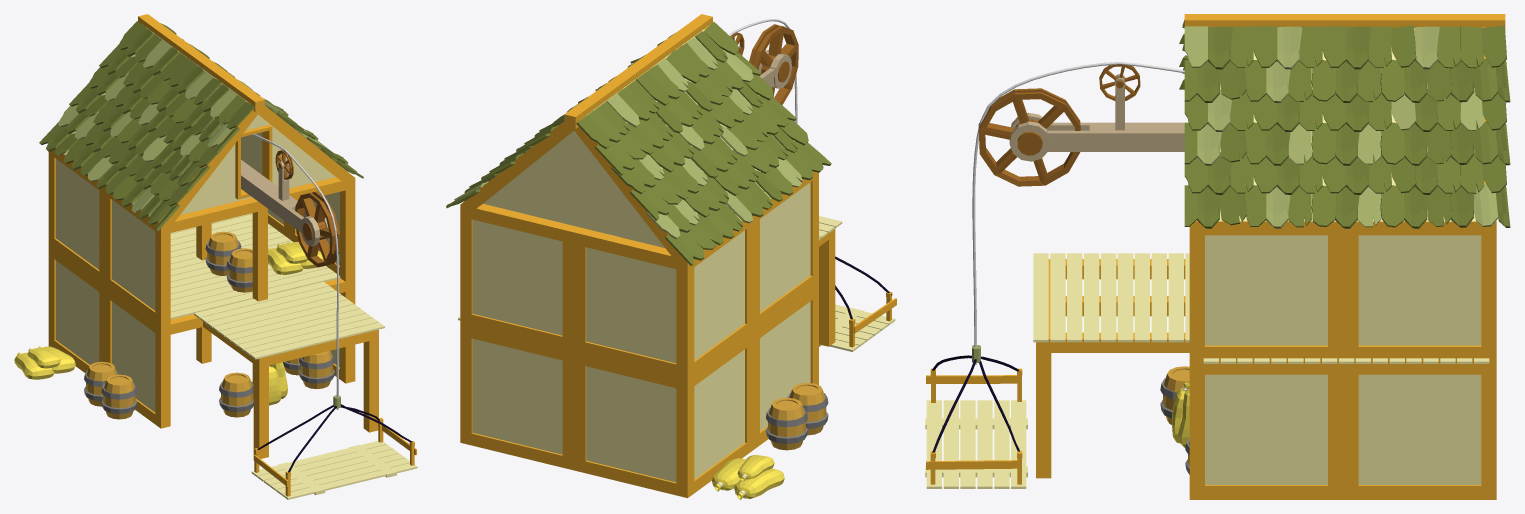
Rendered from Almacen.fbx.
3 renders of one model, left to right at view 1: azimuth 30°, elevation 25°; view 2: azimuth 150°, elevation 25°; view 3: azimuth 270°, elevation 25°, orthographic. The views are drawn at different scales.
Visible parts, largest first — view 1: Madero.026, Elevador, Polea.002, Cylinder; view 2: Madero.026, Elevador, Polea.002; view 3: Madero.026, Elevador, Polea.002, Cylinder, Polea.003.
Part boxes in pixels (x1,y1,x2,y2): Madero.026: (14,14,384,458); Elevador: (251,395,417,499); Polea.002: (295,191,340,267); Cylinder: (252,134,338,409); Madero.026: (446,14,842,499); Elevador: (819,256,896,351); Polea.002: (749,24,798,105); Madero.026: (1009,14,1510,499); Elevador: (925,345,1027,488); Polea.002: (978,88,1080,186); Cylinder: (972,62,1184,364); Polea.003: (1099,64,1140,100).
Size of the model in its own units: 7.88 by 9.31 by 11.42.
